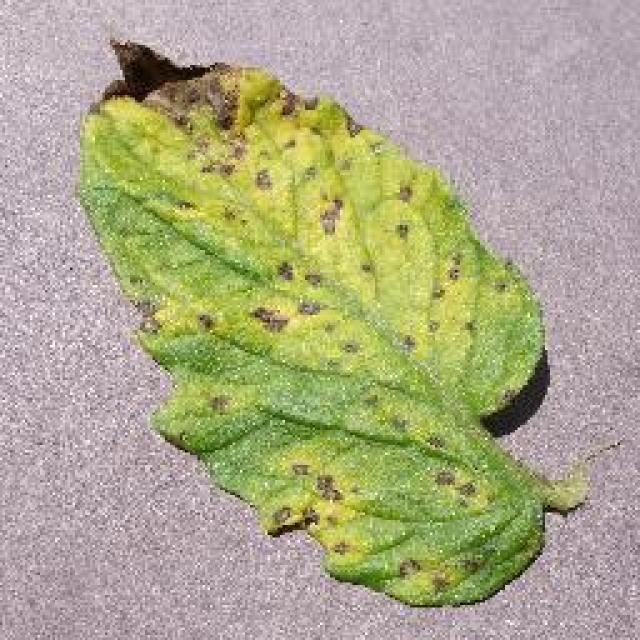Tomato Septoria spot leaf: (86, 39, 550, 604)
